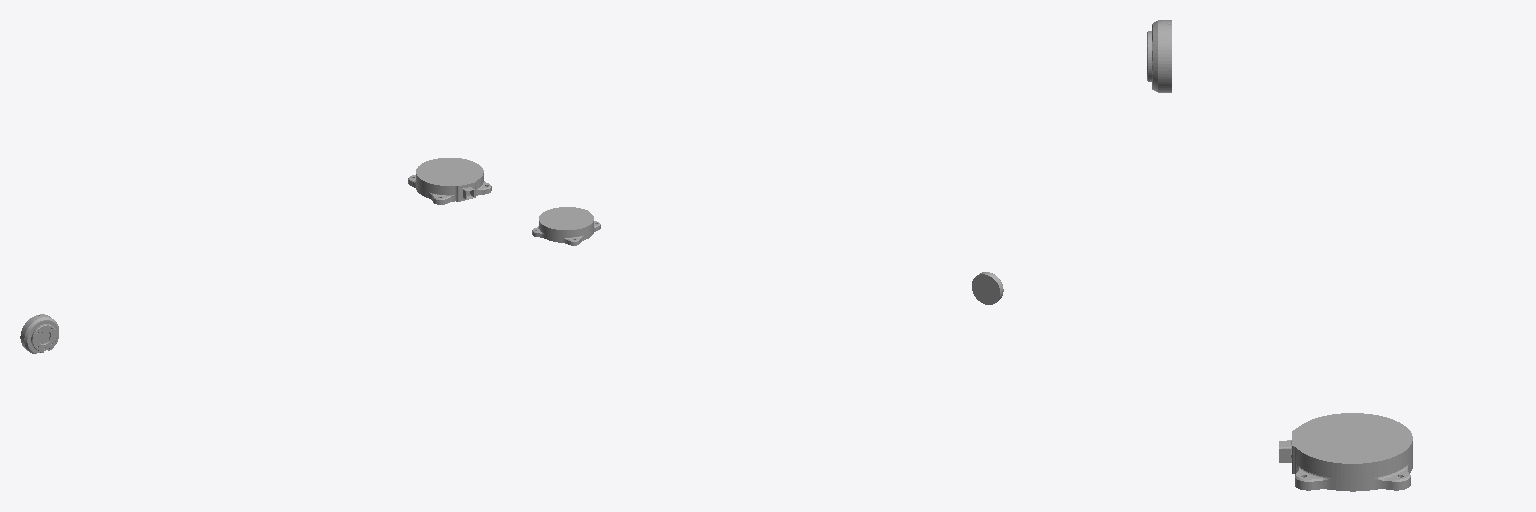
The robot description file, URDF, robot "ur10":
<?xml version="1.0" ?>
<!-- =================================================================================== -->
<!-- |    This document was autogenerated by xacro from [local-path]/catkin_ws/src/universal_robot/ur_description/urdf/ur10_robot.urdf.xacro | -->
<!-- |    EDITING THIS FILE BY HAND IS NOT RECOMMENDED                                 | -->
<!-- =================================================================================== -->
<robot name="ur10" xmlns:xacro="http://ros.org/wiki/xacro">
  <gazebo>
    <plugin filename="libgazebo_ros_control.so" name="ros_control">
      <!--robotNamespace>/</robotNamespace-->
      <!--robotSimType>gazebo_ros_control/DefaultRobotHWSim</robotSimType-->
    </plugin>
    <!--
    <plugin name="gazebo_ros_power_monitor_controller" filename="libgazebo_ros_power_monitor.so">
      <alwaysOn>true</alwaysOn>
      <updateRate>1.0</updateRate>
      <timeout>5</timeout>
      <powerStateTopic>power_state</powerStateTopic>
      <powerStateRate>10.0</powerStateRate>
      <fullChargeCapacity>87.78</fullChargeCapacity>     
      <dischargeRate>-474</dischargeRate>
      <chargeRate>525</chargeRate>
      <dischargeVoltage>15.52</dischargeVoltage>
      <chargeVoltage>16.41</chargeVoltage>
    </plugin>
-->
  </gazebo>
  <!--
  Author: [author]
  Contributers: [author], [author], [author]
-->
  <!-- measured from model -->
  <link name="base_link">
    <visual>
      <geometry>
        <mesh filename="package://ur_description/meshes/ur10/visual/_base.obj"/>
      </geometry>
      <material name="LightGrey">
        <color rgba="0.7 0.7 0.7 1.0"/>
      </material>
    </visual>
    <collision>
      <geometry>
        <mesh filename="package://ur_description/meshes/ur10/collision/base.stl"/>
      </geometry>
    </collision>
    <inertial>
      <mass value="4.0"/>
      <origin rpy="0 0 0" xyz="0.0 0.0 0.0"/>
      <inertia ixx="0.0061063308908" ixy="0.0" ixz="0.0" iyy="0.0061063308908" iyz="0.0" izz="0.01125"/>
    </inertial>
  </link>
  <joint name="shoulder_pan_joint" type="revolute">
    <parent link="base_link"/>
    <child link="shoulder_link"/>
    <origin rpy="0.0 0.0 -3.14159265359" xyz="0.0 0.0 0.1273"/>
    <axis xyz="0 0 1"/>
    <limit effort="330.0" lower="-6.2831853" upper="6.2831853" velocity="2.16"/>
    <dynamics damping="0.0" friction="0.0"/>
  </joint>
  <link name="shoulder_link">
    <visual>
      <geometry>
        <mesh filename="package://ur_description/meshes/ur10/visual/_shoulder.obj"/>
      </geometry>
      <material name="LightGrey">
        <color rgba="0.7 0.7 0.7 1.0"/>
      </material>
    </visual>
    <collision>
      <geometry>
        <mesh filename="package://ur_description/meshes/ur10/collision/shoulder.stl"/>
      </geometry>
    </collision>
    <inertial>
      <mass value="7.778"/>
      <origin rpy="0 0 0" xyz="0.0 0.0 0.0"/>
      <inertia ixx="0.0314743125769" ixy="0.0" ixz="0.0" iyy="0.0314743125769" iyz="0.0" izz="0.021875625"/>
    </inertial>
  </link>
  <joint name="shoulder_lift_joint" type="revolute">
    <parent link="shoulder_link"/>
    <child link="upper_arm_link"/>
    <origin rpy="0.0 1.570796325 0.0" xyz="0.0 0.220941 0.0"/>
    <axis xyz="0 1 0"/>
    <limit effort="330.0" lower="-6.2831853" upper="6.2831853" velocity="2.16"/>
    <dynamics damping="0.0" friction="0.0"/>
  </joint>
  <link name="upper_arm_link">
    <visual>
      <geometry>
        <mesh filename="package://ur_description/meshes/ur10/visual/_upperarm.obj"/>
      </geometry>
      <material name="LightGrey">
        <color rgba="0.7 0.7 0.7 1.0"/>
      </material>
    </visual>
    <collision>
      <geometry>
        <mesh filename="package://ur_description/meshes/ur10/collision/upperarm.stl"/>
      </geometry>
    </collision>
    <inertial>
      <mass value="12.93"/>
      <origin rpy="0 0 0" xyz="0.0 0.0 0.306"/>
      <inertia ixx="0.421753803798" ixy="0.0" ixz="0.0" iyy="0.421753803798" iyz="0.0" izz="0.036365625"/>
    </inertial>
  </link>
  <joint name="elbow_joint" type="revolute">
    <parent link="upper_arm_link"/>
    <child link="forearm_link"/>
    <origin rpy="0.0 0.0 0.0" xyz="0.0 -0.1719 0.612"/>
    <axis xyz="0 1 0"/>
    <limit effort="150.0" lower="-6.2831853" upper="6.2831853" velocity="3.15"/>
    <dynamics damping="0.0" friction="0.0"/>
  </joint>
  <link name="forearm_link">
    <visual>
      <geometry>
        <mesh filename="package://ur_description/meshes/ur10/visual/_forearm.obj"/>
      </geometry>
      <material name="LightGrey">
        <color rgba="0.7 0.7 0.7 1.0"/>
      </material>
    </visual>
    <collision>
      <geometry>
        <mesh filename="package://ur_description/meshes/ur10/collision/forearm.stl"/>
      </geometry>
    </collision>
    <inertial>
      <mass value="3.87"/>
      <origin rpy="0 0 0" xyz="0.0 0.0 0.28615"/>
      <inertia ixx="0.111069694097" ixy="0.0" ixz="0.0" iyy="0.111069694097" iyz="0.0" izz="0.010884375"/>
    </inertial>
  </link>
  <joint name="wrist_1_joint" type="revolute">
    <parent link="forearm_link"/>
    <child link="wrist_1_link"/>
    <origin rpy="0.0 1.570796325 0.0" xyz="0.0 0.0 0.5723"/>
    <axis xyz="0 1 0"/>
    <limit effort="54.0" lower="-6.2831853" upper="6.2831853" velocity="3.2"/>
    <dynamics damping="0.0" friction="0.0"/>
  </joint>
  <link name="wrist_1_link">
    <visual>
      <geometry>
        <mesh filename="package://ur_description/meshes/ur10/visual/_wrist1.obj"/>
      </geometry>
      <material name="LightGrey">
        <color rgba="0.7 0.7 0.7 1.0"/>
      </material>
    </visual>
    <collision>
      <geometry>
        <mesh filename="package://ur_description/meshes/ur10/collision/wrist1.stl"/>
      </geometry>
    </collision>
    <inertial>
      <mass value="1.96"/>
      <origin rpy="0 0 0" xyz="0.0 0.0 0.0"/>
      <inertia ixx="0.0051082479567" ixy="0.0" ixz="0.0" iyy="0.0051082479567" iyz="0.0" izz="0.0055125"/>
    </inertial>
  </link>
  <joint name="wrist_2_joint" type="revolute">
    <parent link="wrist_1_link"/>
    <child link="wrist_2_link"/>
    <origin rpy="0.0 0.0 0.0" xyz="0.0 0.1149 0.0"/>
    <axis xyz="0 0 1"/>
    <limit effort="54.0" lower="-6.2831853" upper="6.2831853" velocity="3.2"/>
    <dynamics damping="0.0" friction="0.0"/>
  </joint>
  <link name="wrist_2_link">
    <visual>
      <geometry>
        <mesh filename="package://ur_description/meshes/ur10/visual/_wrist2.obj"/>
      </geometry>
      <material name="LightGrey">
        <color rgba="0.7 0.7 0.7 1.0"/>
      </material>
    </visual>
    <collision>
      <geometry>
        <mesh filename="package://ur_description/meshes/ur10/collision/wrist2.stl"/>
      </geometry>
    </collision>
    <inertial>
      <mass value="1.96"/>
      <origin rpy="0 0 0" xyz="0.0 0.0 0.0"/>
      <inertia ixx="0.0051082479567" ixy="0.0" ixz="0.0" iyy="0.0051082479567" iyz="0.0" izz="0.0055125"/>
    </inertial>
  </link>
  <joint name="wrist_3_joint" type="revolute">
    <parent link="wrist_2_link"/>
    <child link="wrist_3_link"/>
    <origin rpy="0.0 0.0 0.0" xyz="0.0 0.0 0.1157"/>
    <axis xyz="0 1 0"/>
    <limit effort="54.0" lower="-6.2831853" upper="6.2831853" velocity="3.2"/>
    <dynamics damping="0.0" friction="0.0"/>
  </joint>
  <link name="wrist_3_link">
    <visual>
      <geometry>
        <mesh filename="package://ur_description/meshes/ur10/visual/_wrist3.obj"/>
      </geometry>
      <material name="LightGrey">
        <color rgba="0.7 0.7 0.7 1.0"/>
      </material>
    </visual>
    <collision>
      <geometry>
        <mesh filename="package://ur_description/meshes/ur10/collision/wrist3.stl"/>
      </geometry>
    </collision>
    <inertial>
      <mass value="0.202"/>
      <origin rpy="0 0 0" xyz="0.0 0.0 0.0"/>
      <inertia ixx="0.000526462289415" ixy="0.0" ixz="0.0" iyy="0.000526462289415" iyz="0.0" izz="0.000568125"/>
    </inertial>
  </link>
  <joint name="ee_fixed_joint" type="fixed">
    <parent link="wrist_3_link"/>
    <child link="ee_link"/>
    <origin rpy="-1.57079632679 0.0 0.0" xyz="0.0 0.0922 0.0"/>
  </joint>
  <link name="ee_link">
    <collision>
      <geometry>
        <box size="0.01 0.01 0.01"/>
      </geometry>
      <origin rpy="0 0 0" xyz="-0.01 0 0"/>
    </collision>
  </link>
  <transmission name="shoulder_pan_trans">
    <type>transmission_interface/SimpleTransmission</type>
    <joint name="shoulder_pan_joint">
      <hardwareInterface>PositionJointInterface</hardwareInterface>
    </joint>
    <actuator name="shoulder_pan_motor">
      <mechanicalReduction>1</mechanicalReduction>
    </actuator>
  </transmission>
  <transmission name="shoulder_lift_trans">
    <type>transmission_interface/SimpleTransmission</type>
    <joint name="shoulder_lift_joint">
      <hardwareInterface>PositionJointInterface</hardwareInterface>
    </joint>
    <actuator name="shoulder_lift_motor">
      <mechanicalReduction>1</mechanicalReduction>
    </actuator>
  </transmission>
  <transmission name="elbow_trans">
    <type>transmission_interface/SimpleTransmission</type>
    <joint name="elbow_joint">
      <hardwareInterface>PositionJointInterface</hardwareInterface>
    </joint>
    <actuator name="elbow_motor">
      <mechanicalReduction>1</mechanicalReduction>
    </actuator>
  </transmission>
  <transmission name="wrist_1_trans">
    <type>transmission_interface/SimpleTransmission</type>
    <joint name="wrist_1_joint">
      <hardwareInterface>PositionJointInterface</hardwareInterface>
    </joint>
    <actuator name="wrist_1_motor">
      <mechanicalReduction>1</mechanicalReduction>
    </actuator>
  </transmission>
  <transmission name="wrist_2_trans">
    <type>transmission_interface/SimpleTransmission</type>
    <joint name="wrist_2_joint">
      <hardwareInterface>PositionJointInterface</hardwareInterface>
    </joint>
    <actuator name="wrist_2_motor">
      <mechanicalReduction>1</mechanicalReduction>
    </actuator>
  </transmission>
  <transmission name="wrist_3_trans">
    <type>transmission_interface/SimpleTransmission</type>
    <joint name="wrist_3_joint">
      <hardwareInterface>PositionJointInterface</hardwareInterface>
    </joint>
    <actuator name="wrist_3_motor">
      <mechanicalReduction>1</mechanicalReduction>
    </actuator>
  </transmission>
  <!-- nothing to do here at the moment -->
  <!-- ROS base_link to UR 'Base' Coordinates transform -->
  <link name="base"/>
  <joint name="base_link-base_fixed_joint" type="fixed">
    <!-- NOTE: this rotation is only needed as long as base_link itself is
                 not corrected wrt the real robot (ie: rotated over 180
                 degrees)
      -->
    <origin rpy="0 0 -3.14159265" xyz="0 0 0"/>
    <parent link="base_link"/>
    <child link="base"/>
  </joint>
  <!-- Frame coincident with all-zeros TCP on UR controller -->
  <link name="tool0"/>
  <joint name="wrist_3_link-tool0_fixed_joint" type="fixed">
    <origin rpy="-1.570796325 0 0" xyz="0 0.0922 0"/>
    <parent link="wrist_3_link"/>
    <child link="tool0"/>
  </joint>
  <link name="world"/>
  <joint name="world_joint" type="fixed">
    <parent link="world"/>
    <child link="base_link"/>
    <origin rpy="0.0 0.0 0.0" xyz="0.0 0.0 0.0"/>
  </joint>
</robot>

--- Render facts (derived) ---
Views: 3 orthographic renders of the robot side by side, from view 1: azimuth 30°, elevation 25°; view 2: azimuth 150°, elevation 25°; view 3: azimuth 270°, elevation 25°.
Model ur10 with 11 links and 10 joints (6 revolute, 4 fixed), rooted at world, posed every joint at zero.
Links seen in each view (by area): view 1: base_link, wrist_3_link; view 2: base_link, wrist_3_link; view 3: base_link, wrist_3_link.
Link boxes in pixels (<box>): base_link: <box>408,158,491,204</box>; wrist_3_link: <box>20,314,58,353</box>; base_link: <box>532,207,600,245</box>; wrist_3_link: <box>972,272,1003,304</box>; base_link: <box>1279,413,1412,491</box>; wrist_3_link: <box>1147,20,1171,92</box>.
Size in the robot's own frame: 1.3 by 0.3311 by 0.0901 metres.
Meshes: 7 distinct files referenced, 2 mesh visuals loaded (2 OBJ); not drawn: 5 (reference not matched to a file when rendering).